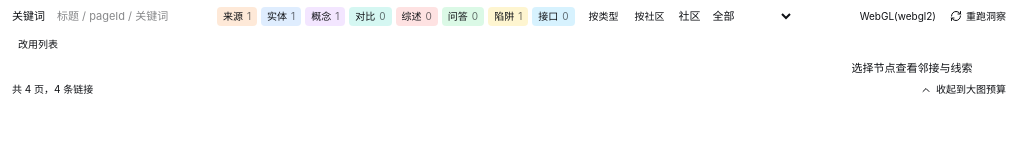
Scenario: KbWikiGraph — 画布模式（WebGL 可用） › 社区过滤与着色模式可切换（社区颜色可演示）
Click the button with test id "kb-graph-color-community" at (650, 16), box [629,7,671,26]
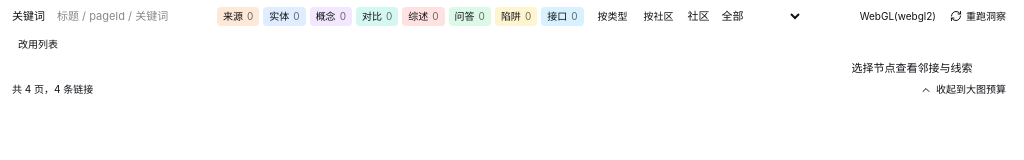
Select "社区 1（1）" in the dropdown with test id "kb-graph-community-filter" at (758, 16), box [714,6,802,26]
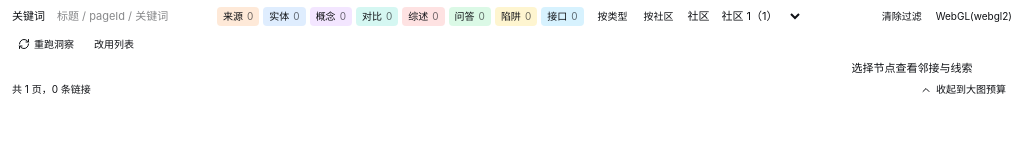
expect the text with test id "kb-graph-coverage" shows "共 1 页": met, box [12,83,91,95]
